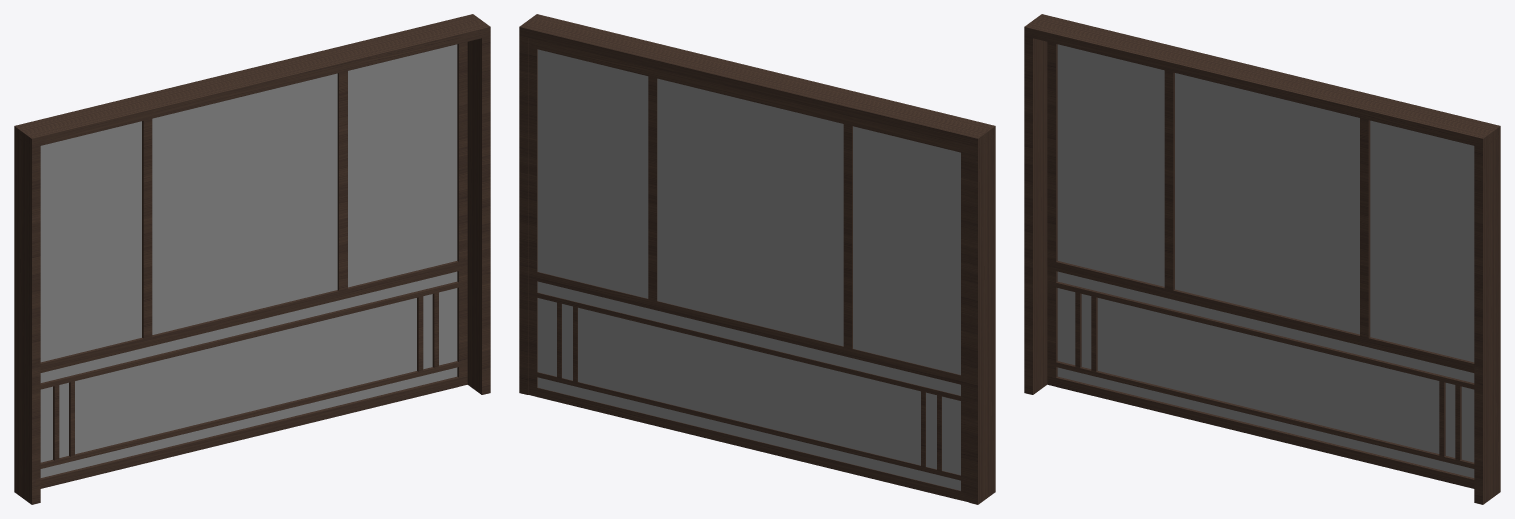
The model's file is Window.FBX.
The picture shows the model from 3 angles, left to right: view 1: azimuth 30°, elevation 25°; view 2: azimuth 150°, elevation 25°; view 3: azimuth 330°, elevation 25°; orthographic projection.
Parts seen in each view (by area): view 1: window; view 2: window; view 3: window.
Part boxes in pixels (<box>): window: <box>14,14,490,504</box>; window: <box>519,14,995,504</box>; window: <box>1024,14,1500,504</box>.
Size of the model in its own units: 290 by 221 by 19.31.
